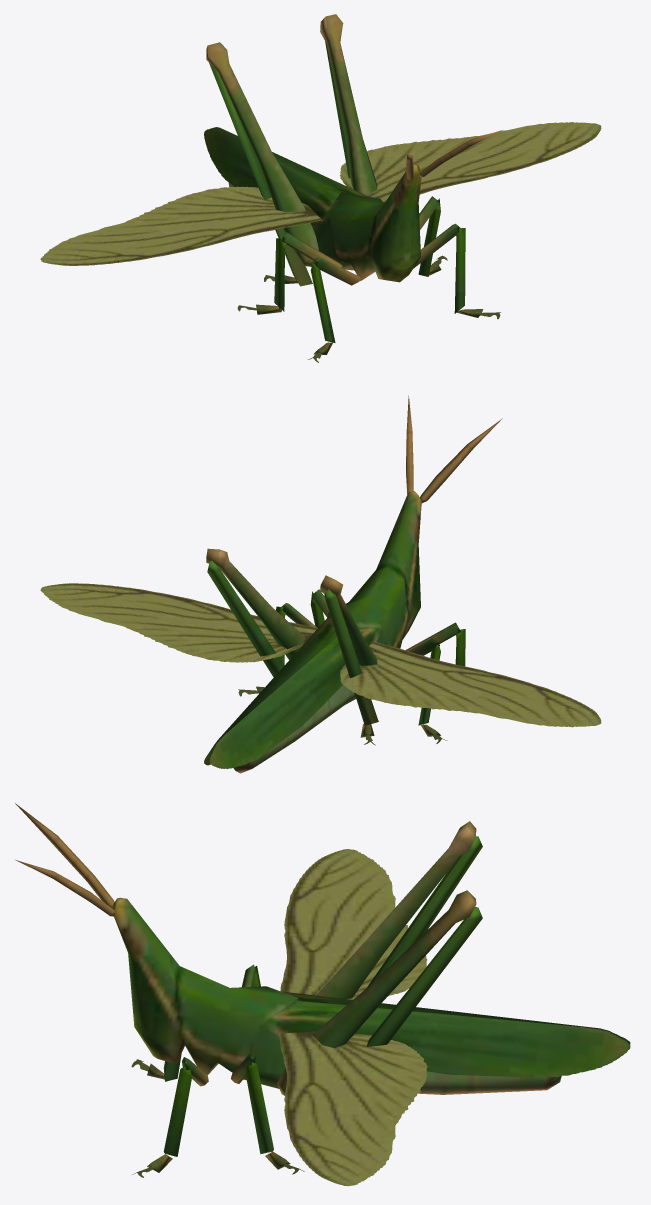
The model's file is long-locust.glb.
The picture shows the model from 3 angles, top to bottom: view 1: azimuth 30°, elevation 25°; view 2: azimuth 150°, elevation 25°; view 3: azimuth 270°, elevation 25°; orthographic projection. The views are drawn at different scales.
Bounding box in the file's own units: 6.97 × 2.75 × 5.3.
2 materials, 2 textured.
